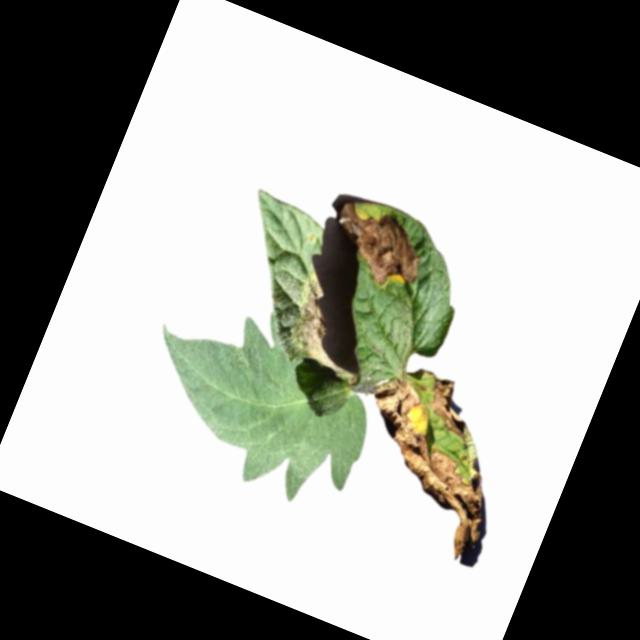Late_blight: (328, 354, 535, 566), (280, 258, 389, 380), (318, 196, 438, 298)
healthy: (118, 286, 393, 519)
